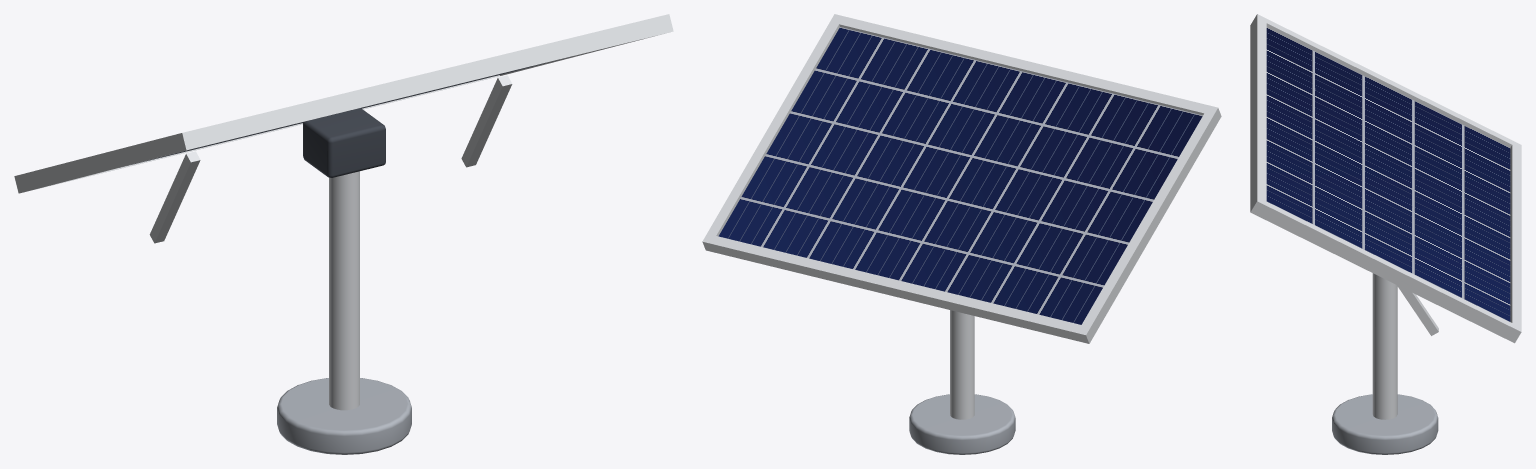
File: panel.glb
3 views of the same model, side by side, from view 1: azimuth 30°, elevation 25°; view 2: azimuth 150°, elevation 25°; view 3: azimuth 270°, elevation 25° (orthographic). The views are drawn at different scales.
Visible parts, largest first — view 1: placa, base, poste, motor, Cube.067, Cube.068; view 2: placa, base, poste; view 3: placa, base, poste, Cube.068.
Part boxes in pixels (x1=…): placa: x1=14, y1=14, x2=673, y2=193; base: x1=277, y1=378, x2=411, y2=454; poste: x1=329, y1=171, x2=359, y2=410; motor: x1=303, y1=108, x2=385, y2=177; Cube.067: x1=149, y1=151, x2=200, y2=243; Cube.068: x1=461, y1=75, x2=512, y2=167; placa: x1=702, y1=14, x2=1221, y2=343; base: x1=909, y1=394, x2=1015, y2=454; poste: x1=950, y1=310, x2=974, y2=419; placa: x1=1250, y1=14, x2=1521, y2=343; base: x1=1332, y1=394, x2=1438, y2=454; poste: x1=1372, y1=273, x2=1397, y2=419; Cube.068: x1=1397, y1=285, x2=1438, y2=335.
Size of the model in its own units: 2.5 by 2.03 by 1.53.
5 materials, 1 textured.
